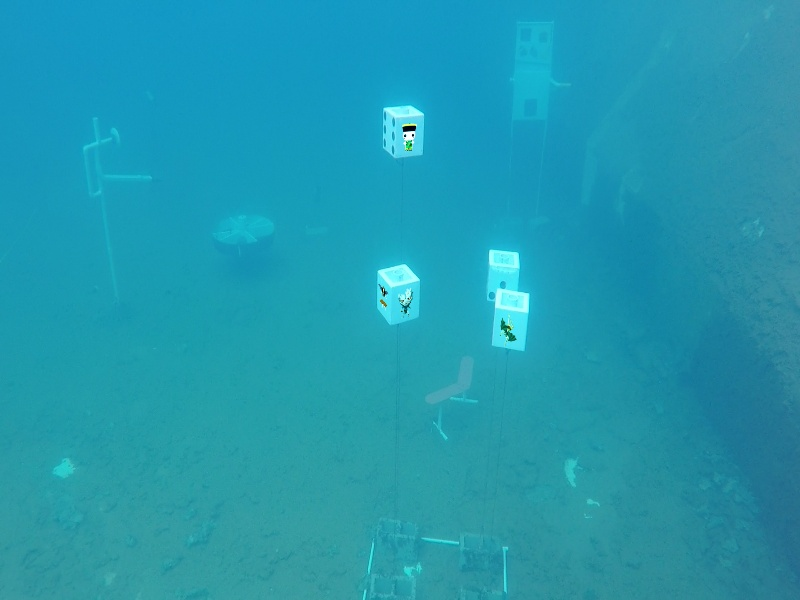Aswang: (378, 282, 390, 312)
Draugr: (397, 286, 415, 319)
Jiangshi: (400, 122, 420, 152)
Vetalas: (498, 313, 517, 345)
